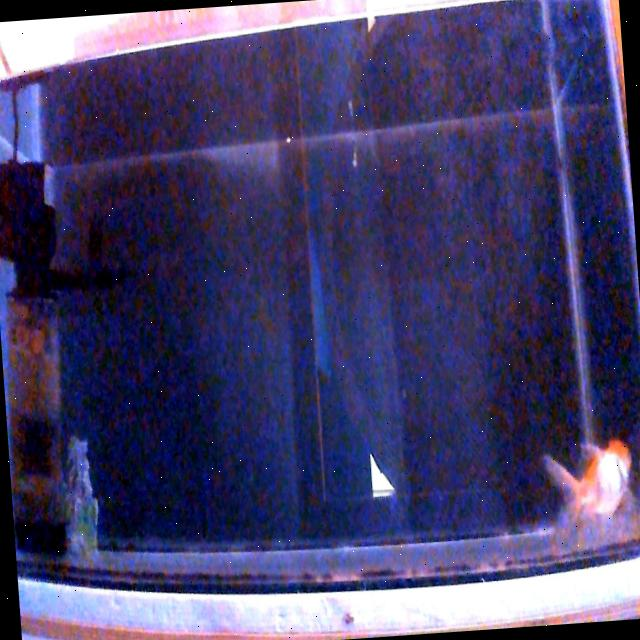fish: (541, 434, 635, 520)
